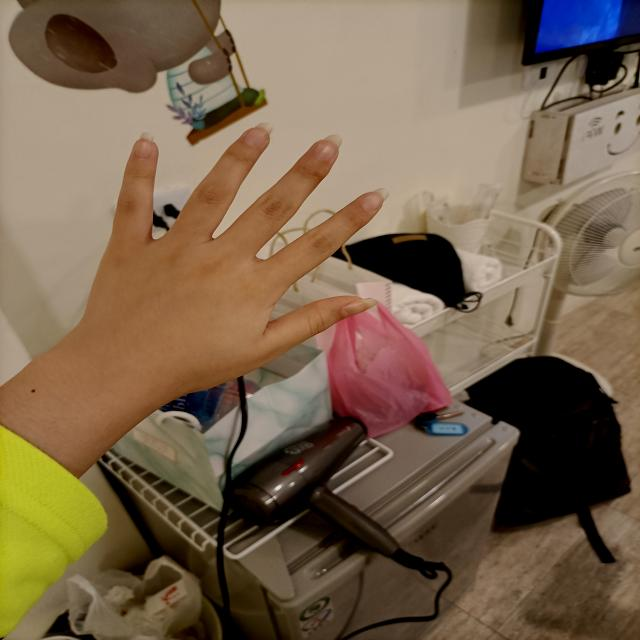no_glove: (46, 93, 404, 420)
